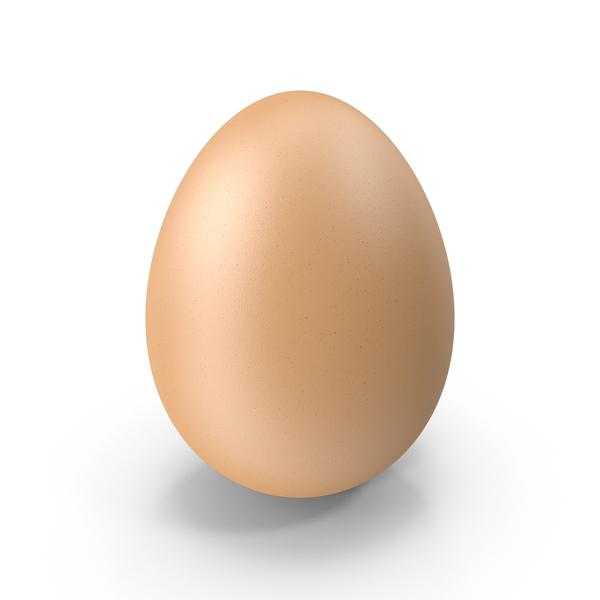egg: (139, 87, 466, 505)
